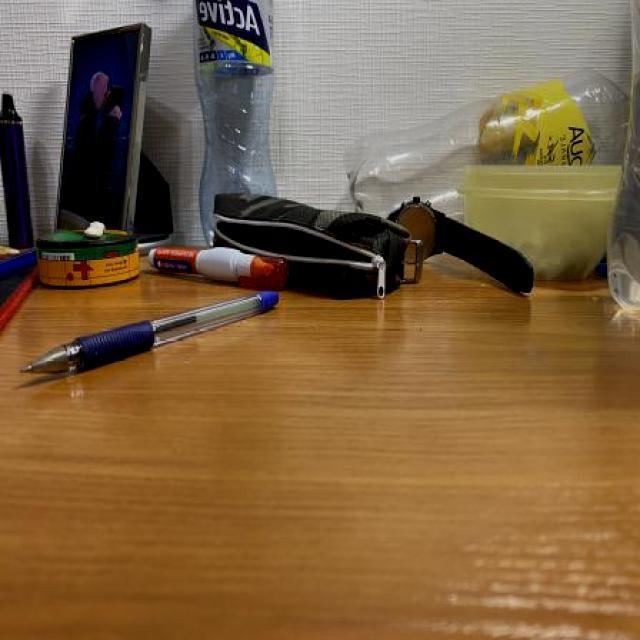pen: (21, 287, 278, 382)
